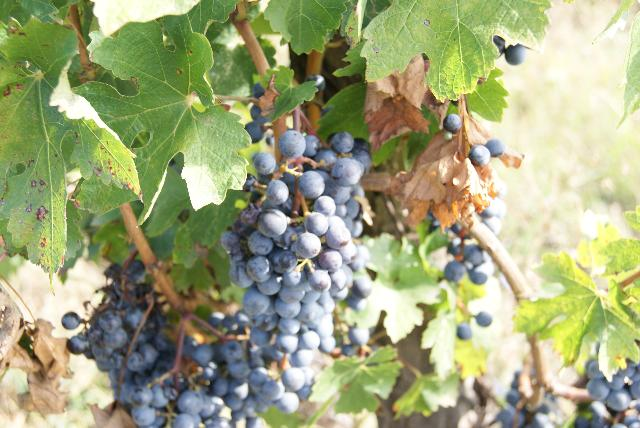grapes: (230, 130, 371, 412)
